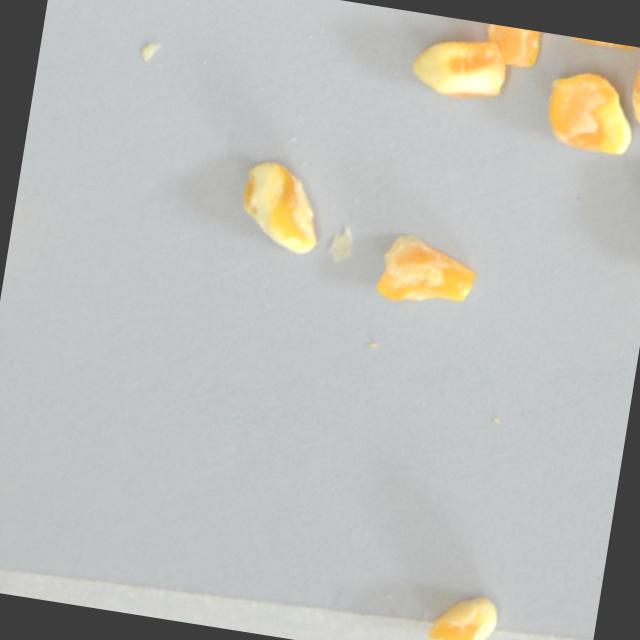pelicula: (228, 155, 329, 259), (538, 65, 639, 160), (370, 230, 479, 316), (406, 29, 511, 105), (419, 586, 501, 640), (473, 21, 542, 70), (622, 46, 640, 136), (557, 34, 636, 52)
